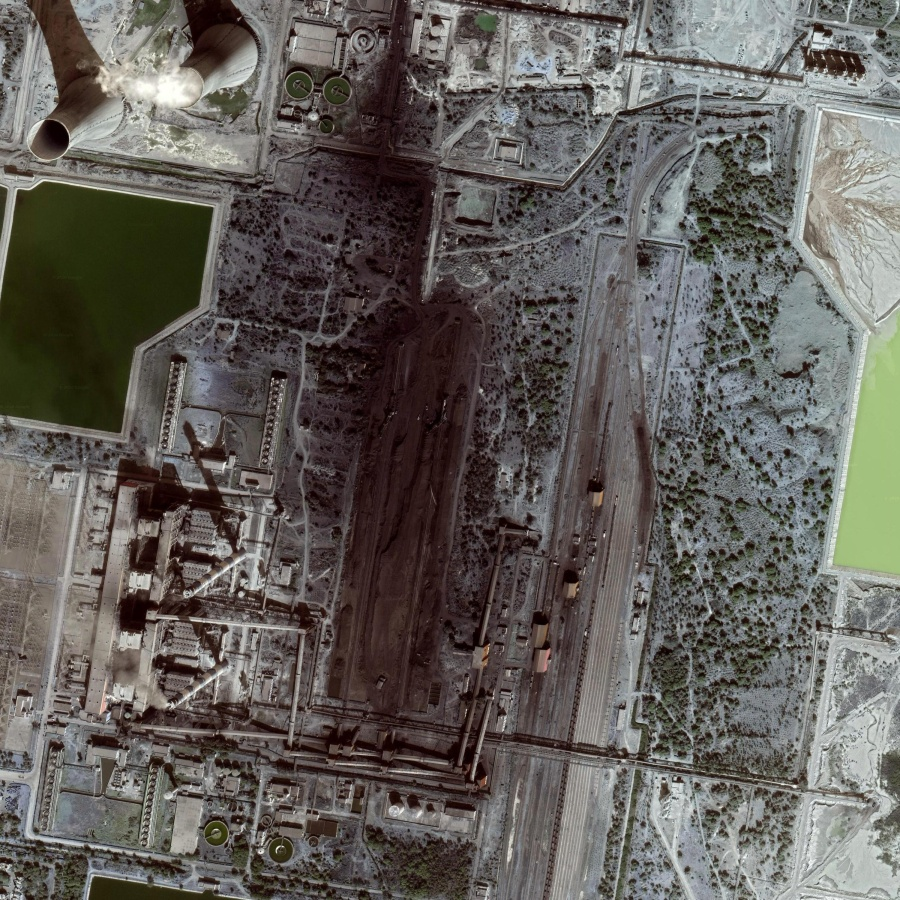PowerPlant: (95, 274, 538, 782)
